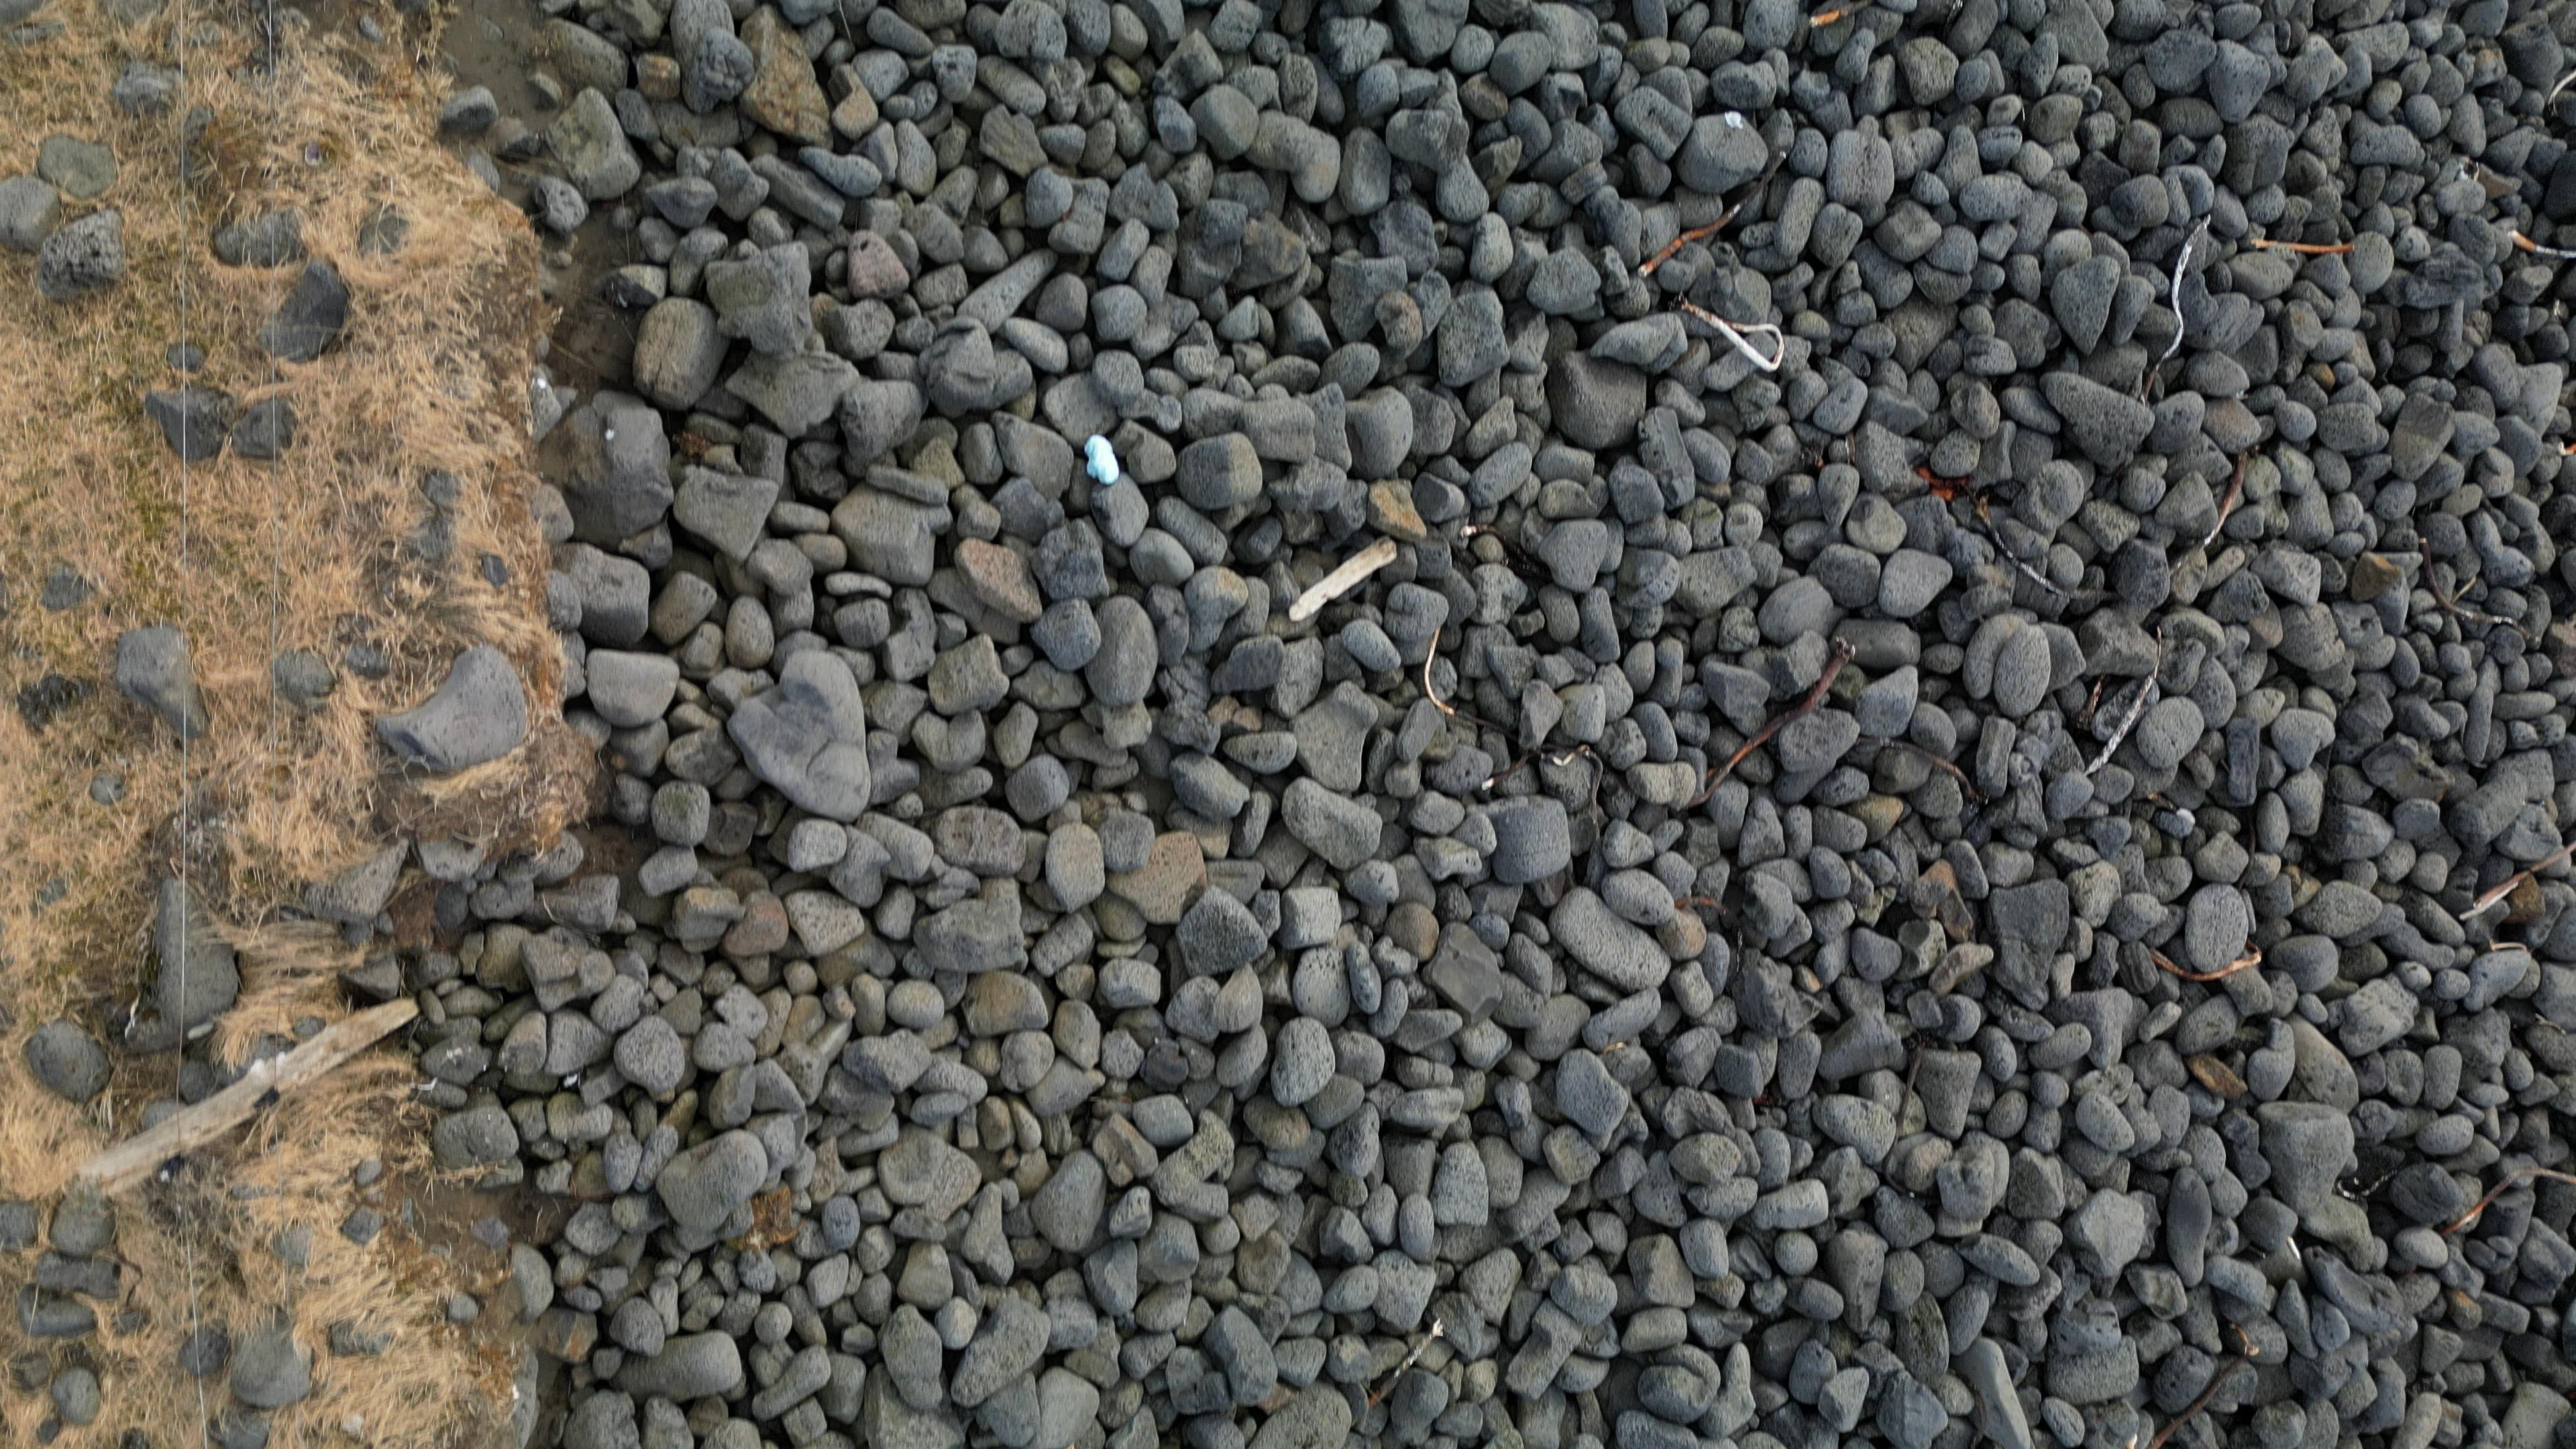trash: (1081, 433, 1122, 488)
